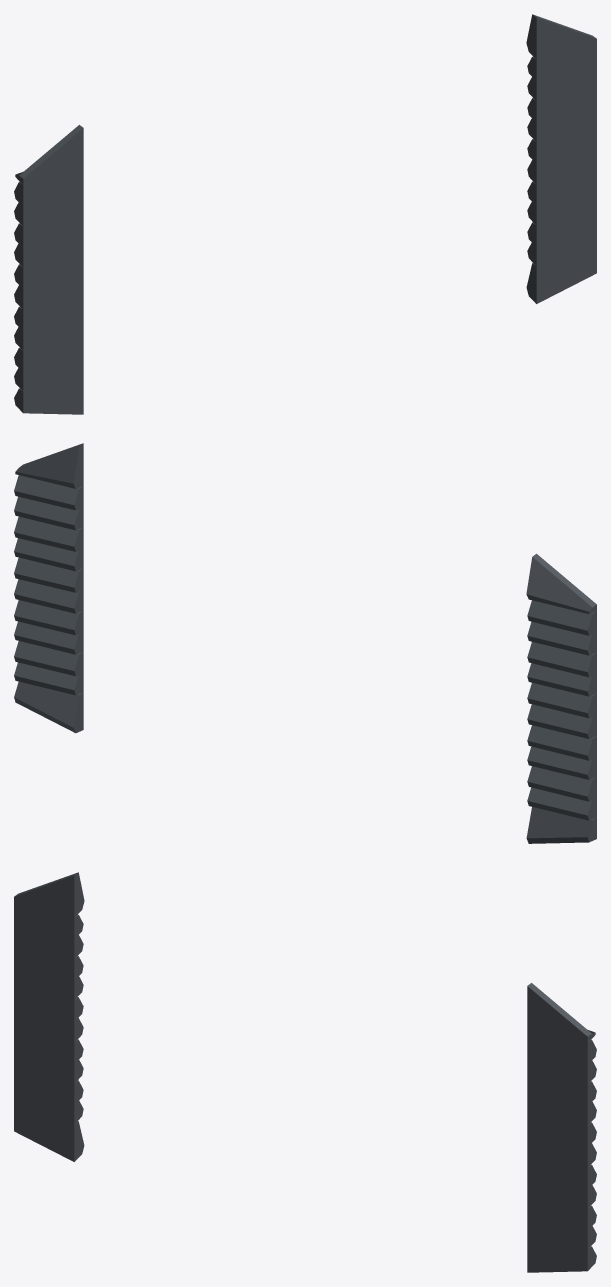
The model's file is Mothership_01_Rear_Fins_Red.fbx.
The picture shows the model from 3 angles, top to bottom: view 1: azimuth 30°, elevation 25°; view 2: azimuth 150°, elevation 25°; view 3: azimuth 330°, elevation 25°; orthographic projection.
Visible parts, largest first — view 1: Mothership_01_Rear_Fins_Red; view 2: Mothership_01_Rear_Fins_Red; view 3: Mothership_01_Rear_Fins_Red.
Part boxes in pixels (x1=…): Mothership_01_Rear_Fins_Red: x1=14, y1=14, x2=596, y2=414; Mothership_01_Rear_Fins_Red: x1=14, y1=443, x2=596, y2=843; Mothership_01_Rear_Fins_Red: x1=14, y1=872, x2=596, y2=1272.
Size of the model in its own units: 2587 by 1236 by 79.59.
Materials: 1 (1 with a texture image).
